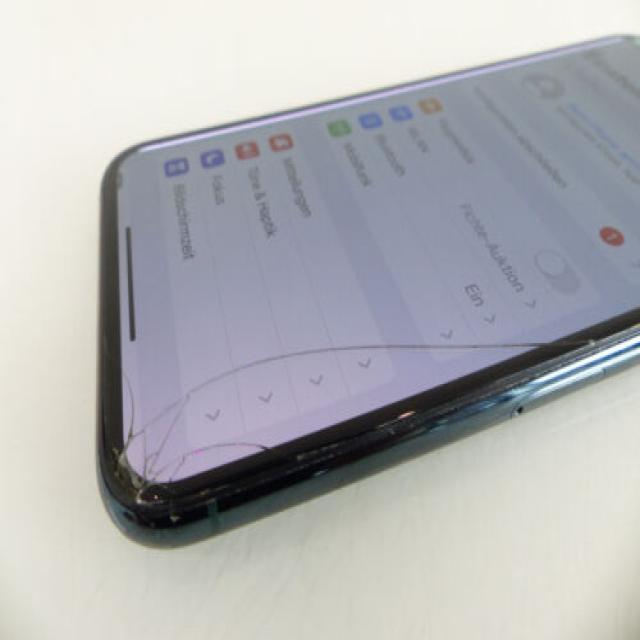Crack: (99, 363, 290, 540)
